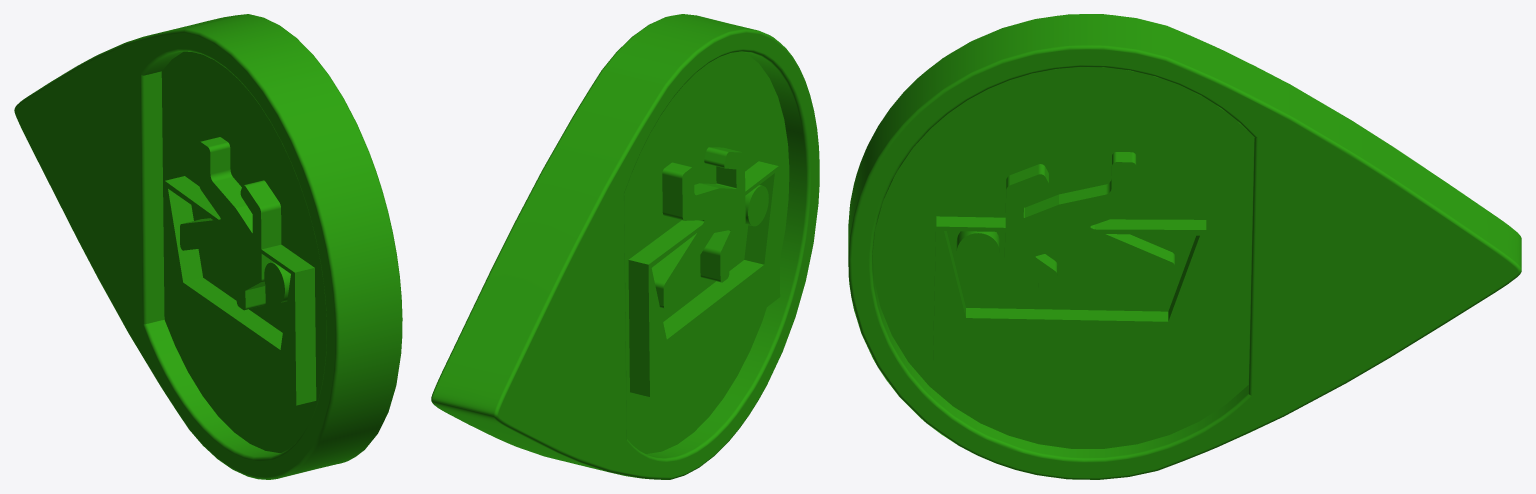
The model's file is ICONO 6.fbx.
3 renders of one model, left to right at view 1: azimuth 30°, elevation 25°; view 2: azimuth 150°, elevation 25°; view 3: azimuth 270°, elevation 25°, orthographic. The views are drawn at different scales.
Parts seen in each view (by area): view 1: Icono 1; view 2: Icono 1; view 3: Icono 1.
Part boxes in pixels (x1,y1,x2,y2): Icono 1: [14, 14, 402, 479]; Icono 1: [431, 14, 819, 479]; Icono 1: [848, 14, 1521, 479].
Bounding box in the file's own units: 112 × 675 × 947.
